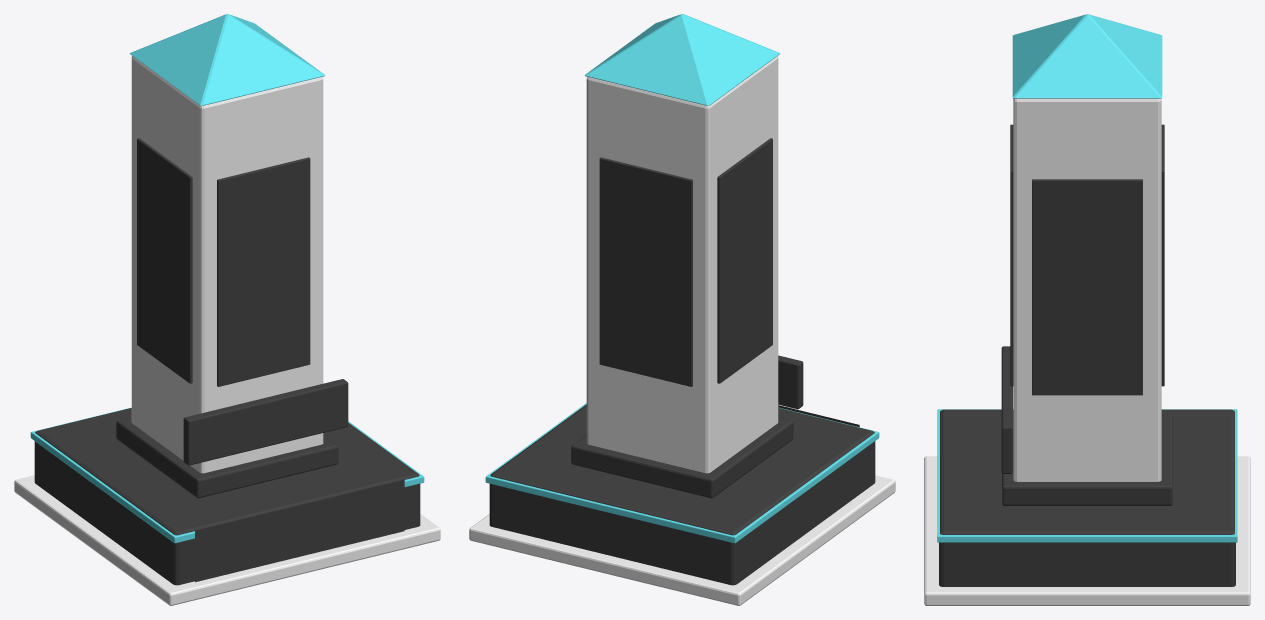
File: feed-obelisk.glb
The picture shows the model from 3 angles, left to right: view 1: azimuth 30°, elevation 25°; view 2: azimuth 150°, elevation 25°; view 3: azimuth 270°, elevation 25°; orthographic projection. The views are drawn at different scales.
Parts seen in each view (by area): view 1: shaft, base, screen_01, face_feed, cap, screen_04, base_step, shaft_foot, sign_board, screen_frame_01, sign_back, screen_frame_04 (+1 smaller); view 2: shaft, base, screen_03, cap, base_step, screen_04, shaft_foot, screen_frame_03, base_band, screen_frame_04, sign_back; view 3: base, shaft, screen_02, cap, base_step, shaft_foot, screen_frame_02, base_band, sign_back, screen_frame_01, screen_frame_03.
Boxes of the visible parts, x1,y1,x2,y2 form: shaft: (131,56,323,473); base: (34,408,420,585); screen_01: (225,167,305,379); face_feed: (195,479,404,582); cap: (130,14,324,106); screen_04: (138,148,184,375); base_step: (14,475,440,605); shaft_foot: (116,417,338,498); sign_board: (195,390,343,458); screen_frame_01: (217,157,310,386); sign_back: (183,379,348,465); screen_frame_04: (137,138,192,383); shaft: (586,56,778,473); base: (489,404,875,585); screen_03: (604,167,684,379); cap: (585,14,779,106); base_step: (469,475,895,605); screen_04: (725,148,771,375); shaft_foot: (571,417,793,498); screen_frame_03: (599,157,692,386); base_band: (485,403,879,543); screen_frame_04: (717,138,772,383); sign_back: (778,355,803,409); base: (939,409,1235,586); shaft: (1013,98,1161,481); screen_02: (1039,188,1135,389); cap: (1012,14,1162,98); base_step: (924,456,1250,605); shaft_foot: (1002,415,1172,505); screen_frame_02: (1032,179,1142,395); base_band: (937,409,1237,542); sign_back: (1001,346,1012,473); screen_frame_01: (1010,124,1013,386); screen_frame_03: (1161,124,1164,386).
Bounding box in the file's own units: 4.4 × 7.78 × 4.4.
